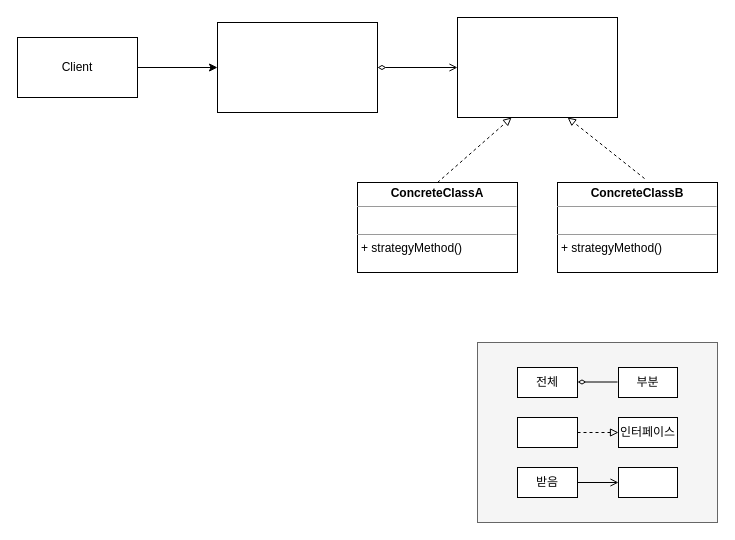
The diagram is 735 pixels wide and 540 high, and some of its shapes have lost their labels. Here are the shapes that lost their labels. From the top down, the box of each, then its label:
(216, 22, 378, 112): Context + contextMethod()
(456, 16, 618, 118): <<Interface>> Strategy + strategyMethod()
(516, 416, 578, 448): 구현체
(618, 466, 678, 498): 제공
